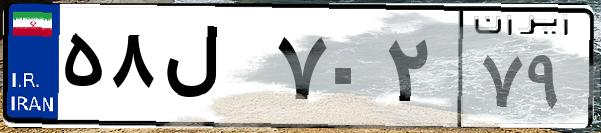0: (330, 28, 385, 110)
2: (385, 28, 445, 110)
5: (57, 26, 110, 100)
7: (270, 28, 330, 110), (475, 38, 525, 113)
8: (110, 28, 158, 98)
9: (525, 38, 570, 115)
ل: (158, 20, 270, 120)
